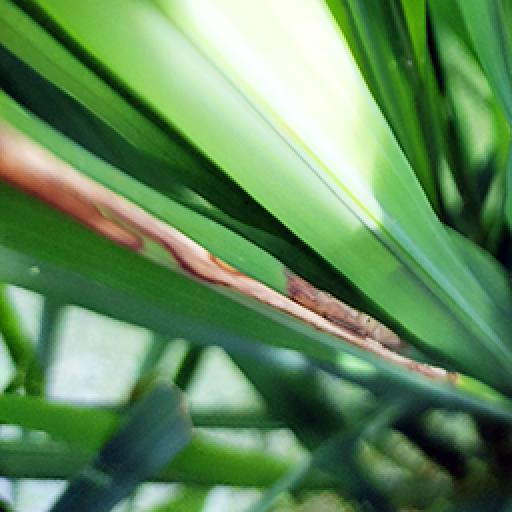Leaf Blast Disease: (2, 120, 476, 400)
